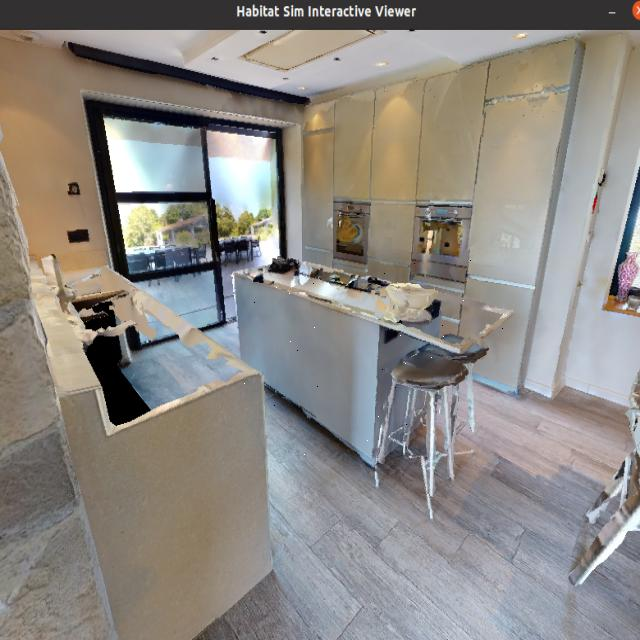chair: (378, 337, 464, 514)
table: (238, 253, 509, 463)
